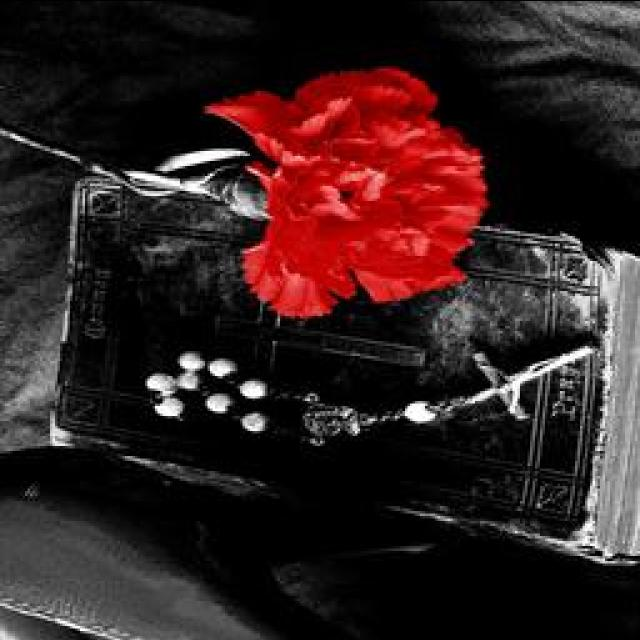carnation: (227, 40, 509, 328)
